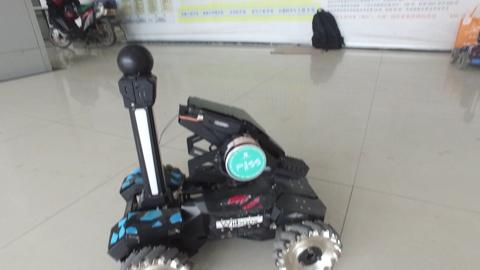bag: (308, 7, 348, 50)
chariot: (101, 41, 346, 270)
